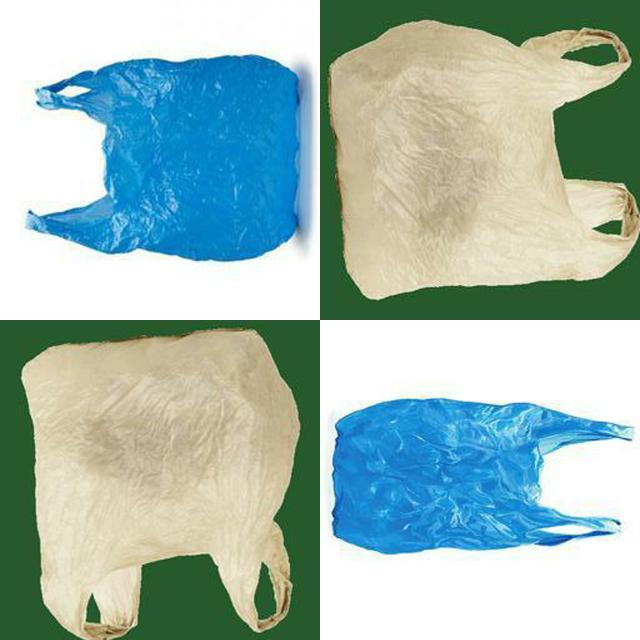Single-layer Plastic: (329, 20, 640, 299), (22, 330, 299, 640), (26, 55, 299, 261), (332, 399, 634, 554)
